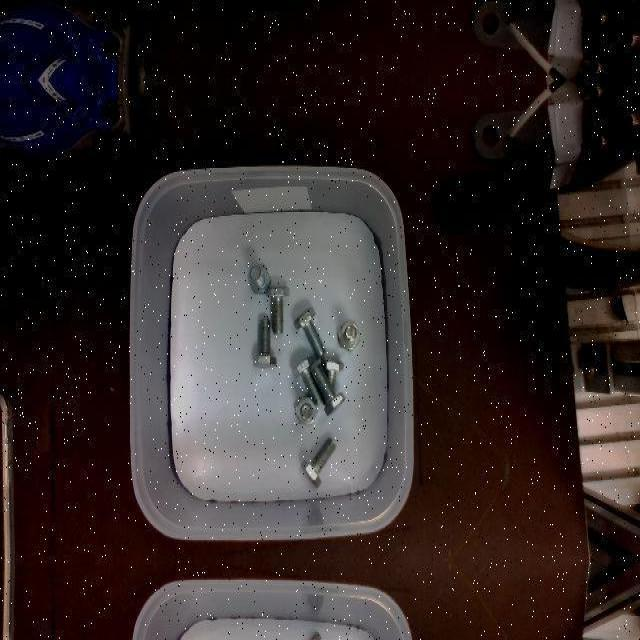screw: (311, 364, 346, 416), (301, 437, 336, 487), (294, 306, 326, 358), (293, 355, 324, 405), (254, 317, 278, 367), (266, 286, 289, 334), (337, 321, 360, 351), (295, 396, 318, 426), (250, 266, 272, 294)
